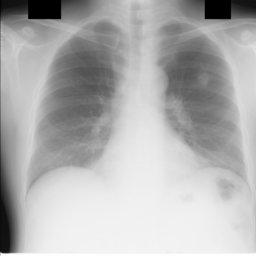left lobe: (159, 22, 246, 178)
right lobe: (31, 22, 123, 182)
